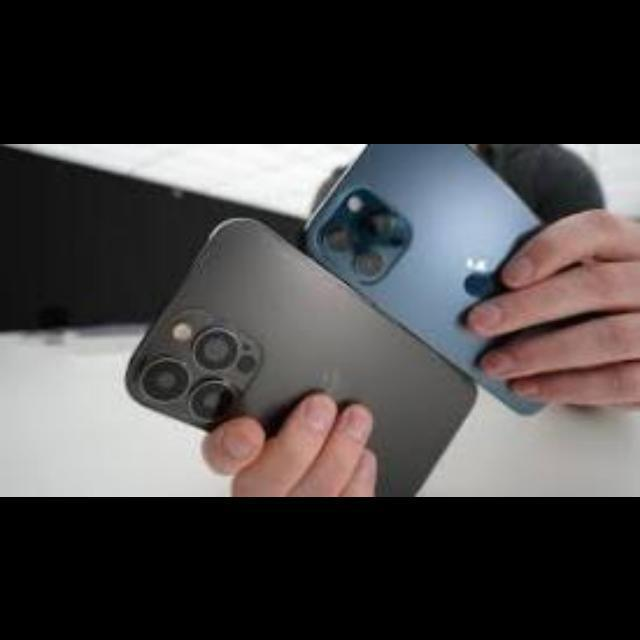phone: (10, 147, 612, 488)
